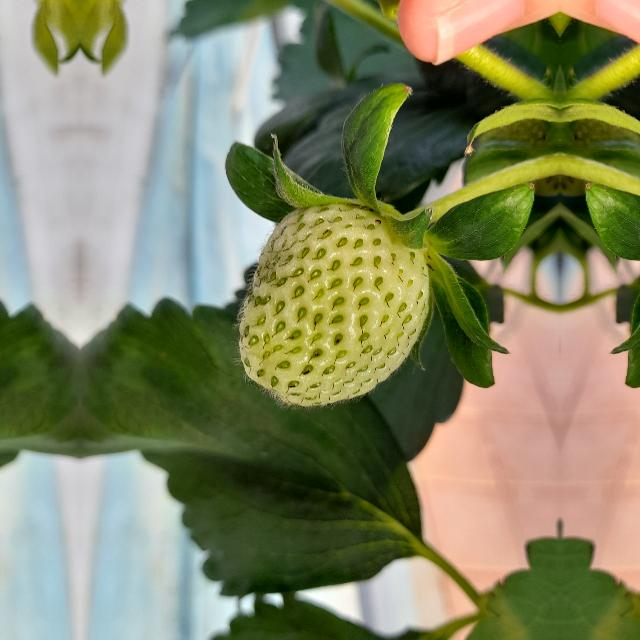Health_25: (237, 202, 429, 406)
